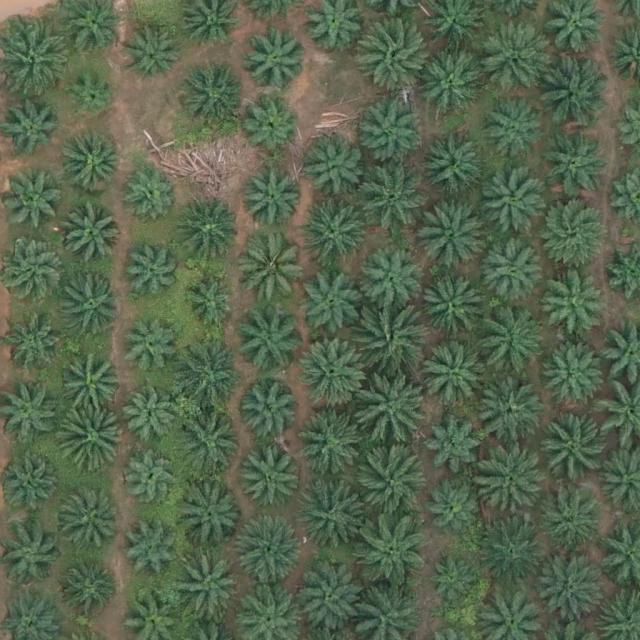Healthy: (474, 380, 545, 451), (176, 555, 247, 626), (479, 306, 549, 377), (479, 451, 549, 522), (420, 339, 490, 410), (354, 307, 425, 377), (357, 516, 427, 587), (298, 478, 368, 549), (298, 409, 368, 480), (234, 307, 304, 378), (175, 404, 245, 475), (175, 342, 246, 412), (57, 404, 127, 475), (539, 56, 609, 127), (535, 195, 606, 265), (477, 168, 548, 238), (478, 21, 548, 92), (359, 164, 429, 235), (355, 95, 425, 166), (359, 20, 429, 91), (297, 195, 367, 266), (533, 552, 603, 622), (539, 413, 609, 483), (479, 515, 549, 585), (358, 377, 428, 447), (360, 450, 430, 520), (294, 563, 364, 633), (297, 337, 367, 407), (235, 517, 305, 587), (419, 199, 489, 269), (240, 235, 310, 305), (542, 493, 605, 556), (424, 416, 487, 479), (542, 134, 605, 197), (539, 271, 602, 334), (482, 239, 545, 302), (245, 27, 308, 90), (180, 64, 243, 127), (60, 274, 123, 337), (546, 344, 608, 407), (237, 381, 299, 444), (242, 446, 304, 509), (181, 486, 243, 549), (64, 356, 126, 419), (482, 96, 544, 159), (419, 52, 481, 115), (421, 135, 483, 198), (418, 278, 480, 341), (361, 249, 423, 312), (303, 138, 365, 201), (299, 271, 361, 334), (244, 168, 306, 231), (177, 201, 240, 263), (61, 202, 123, 265), (56, 488, 118, 550), (61, 132, 123, 194), (4, 168, 66, 230), (121, 321, 176, 376), (123, 391, 178, 446), (124, 452, 179, 507), (59, 561, 114, 616), (10, 322, 65, 377), (245, 97, 300, 152), (183, 272, 238, 327), (127, 28, 182, 83), (4, 104, 59, 159), (432, 481, 486, 536), (125, 526, 179, 581), (125, 243, 179, 298), (123, 166, 177, 221)
Small: (431, 557, 478, 605), (69, 72, 116, 119)
